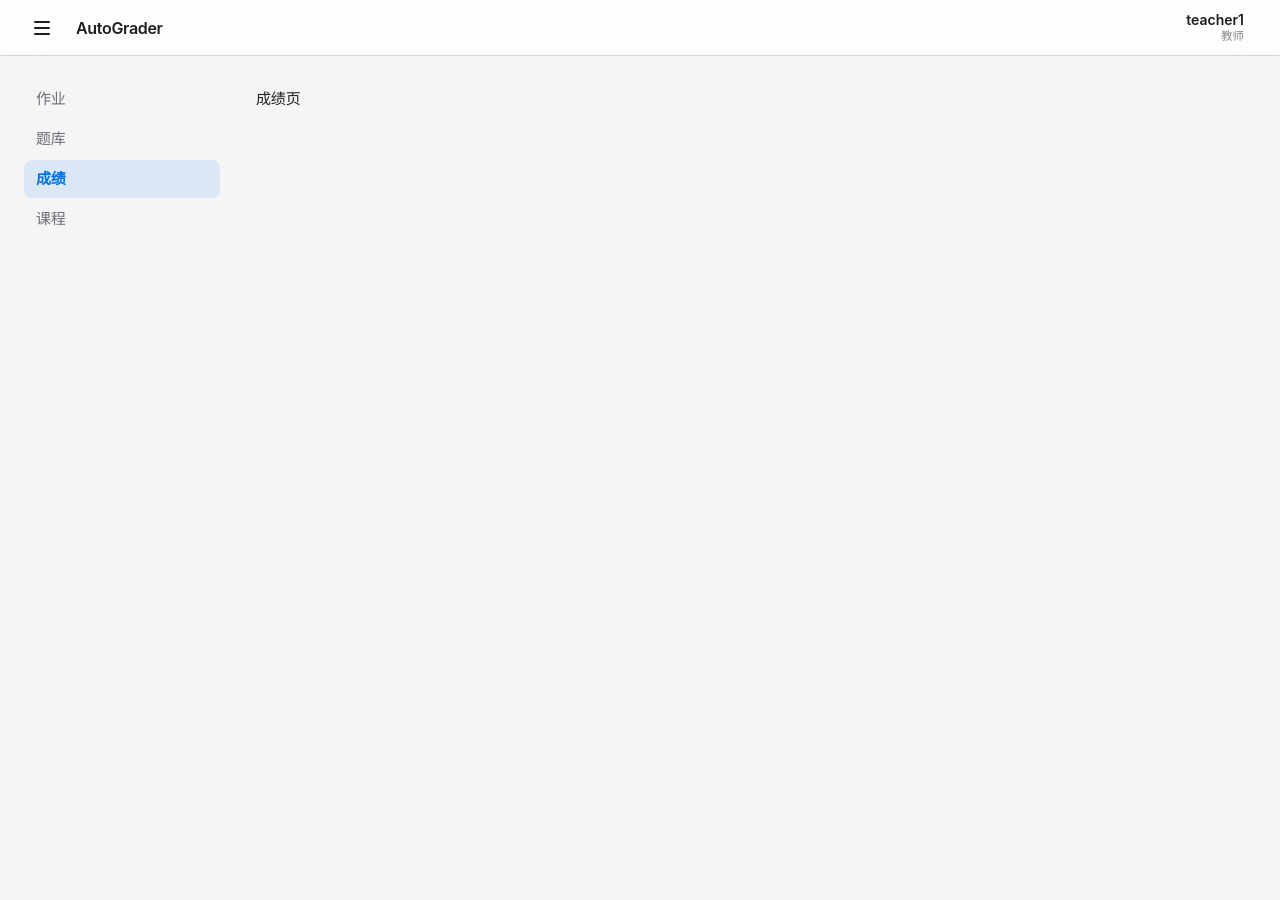
Test: 角色导航与账户菜单 › 小屏抽屉打开后可从抽屉选页，并在选页后收起
The image size is (1280, 900).
Click the button with test id "nav-drawer-open" at (42, 28), box [24,10,60,46]
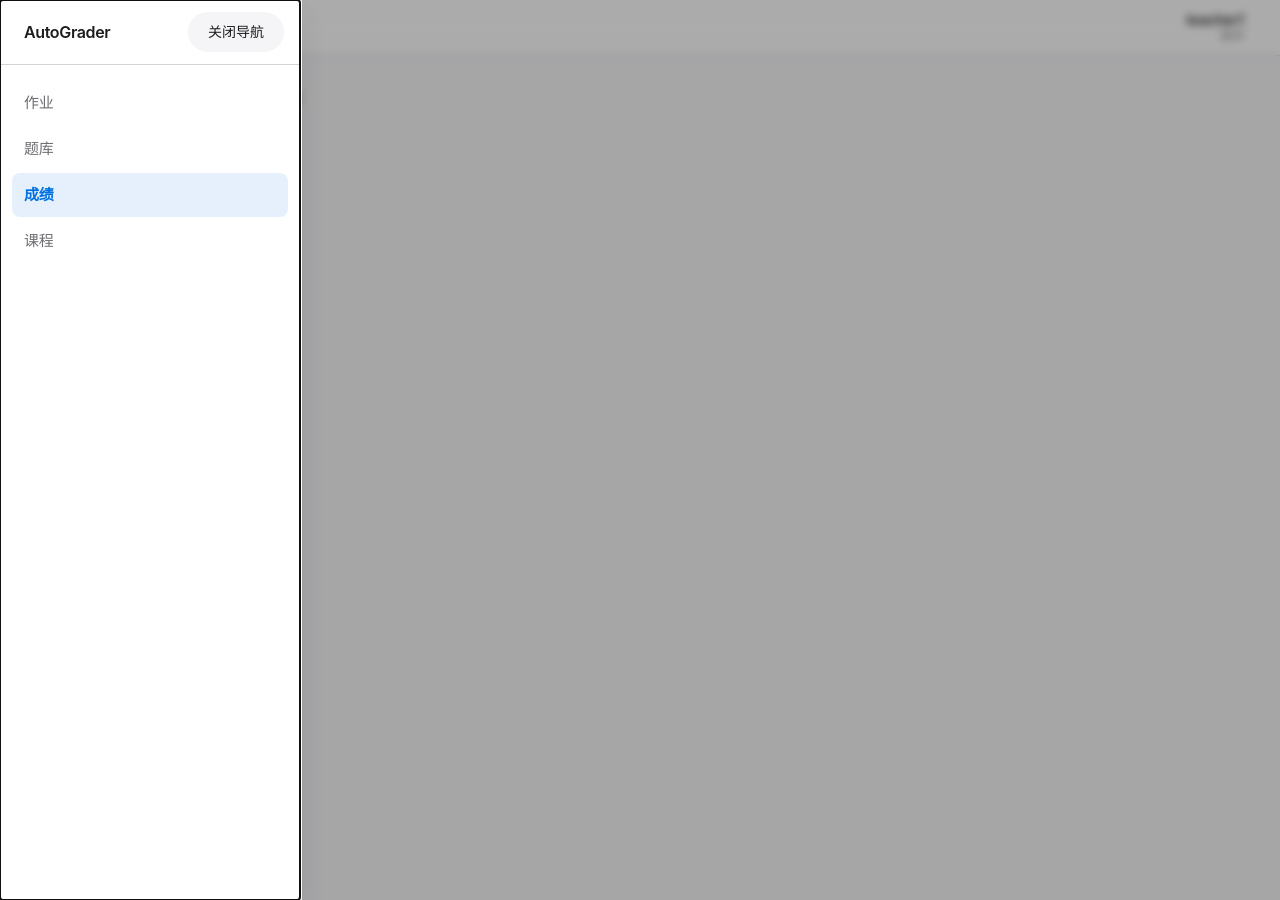
Expected: the link "作业" is shown
Click the link with test id "drawer-nav-assignments" at (39, 102), box [24,93,54,112]
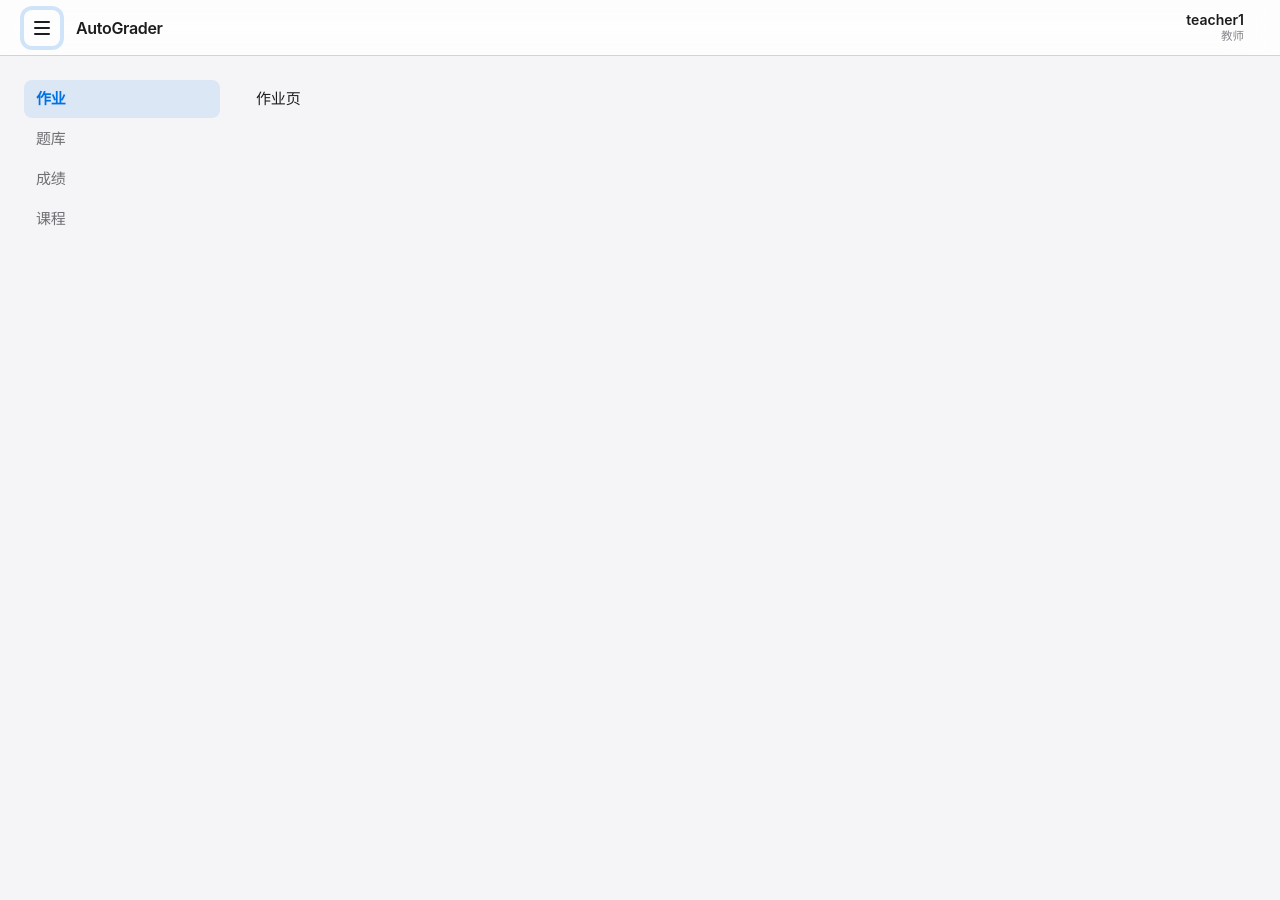
Expected: the dialog with test id "nav-drawer" is gone
